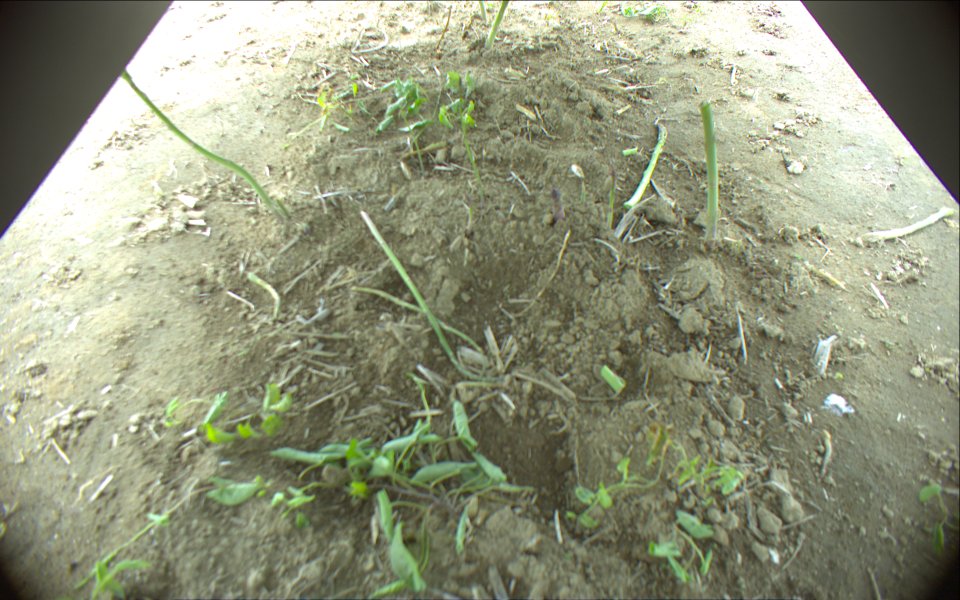aspa: (115, 64, 279, 221), (362, 210, 499, 384), (349, 286, 487, 359), (697, 100, 723, 255), (626, 121, 668, 209), (855, 207, 955, 242), (247, 271, 280, 316), (485, 1, 511, 48), (604, 166, 617, 241), (551, 186, 565, 230), (478, 1, 487, 19)
